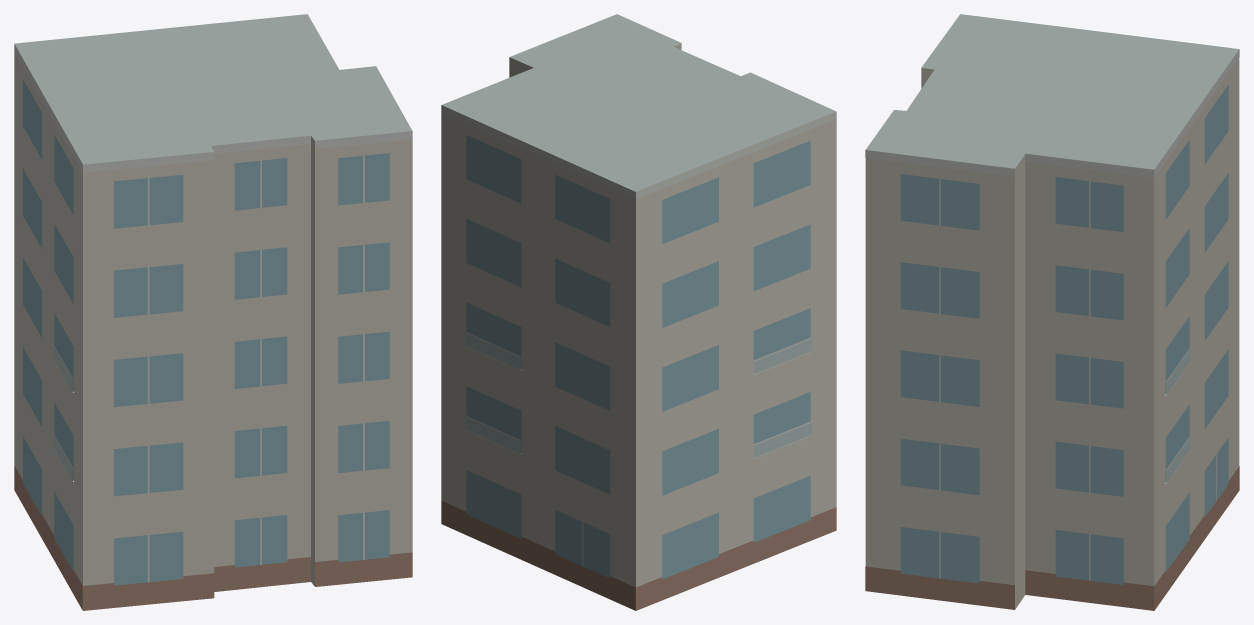
Rendered from survey-upis-32961700.glb.
3 views of the same model, side by side, from view 1: azimuth 30°, elevation 25°; view 2: azimuth 150°, elevation 25°; view 3: azimuth 270°, elevation 25° (orthographic). The views are drawn at different scales.
Visible parts, largest first — view 1: survey-upis-32961700.tmp; view 2: survey-upis-32961700.tmp; view 3: survey-upis-32961700.tmp.
Part boxes in pixels (x1,y1,x2,y2): survey-upis-32961700.tmp: (14,14,412,610); survey-upis-32961700.tmp: (441,14,836,610); survey-upis-32961700.tmp: (865,14,1239,610).
Size of the model in its own units: 10.08 by 13.3 by 10.23.
